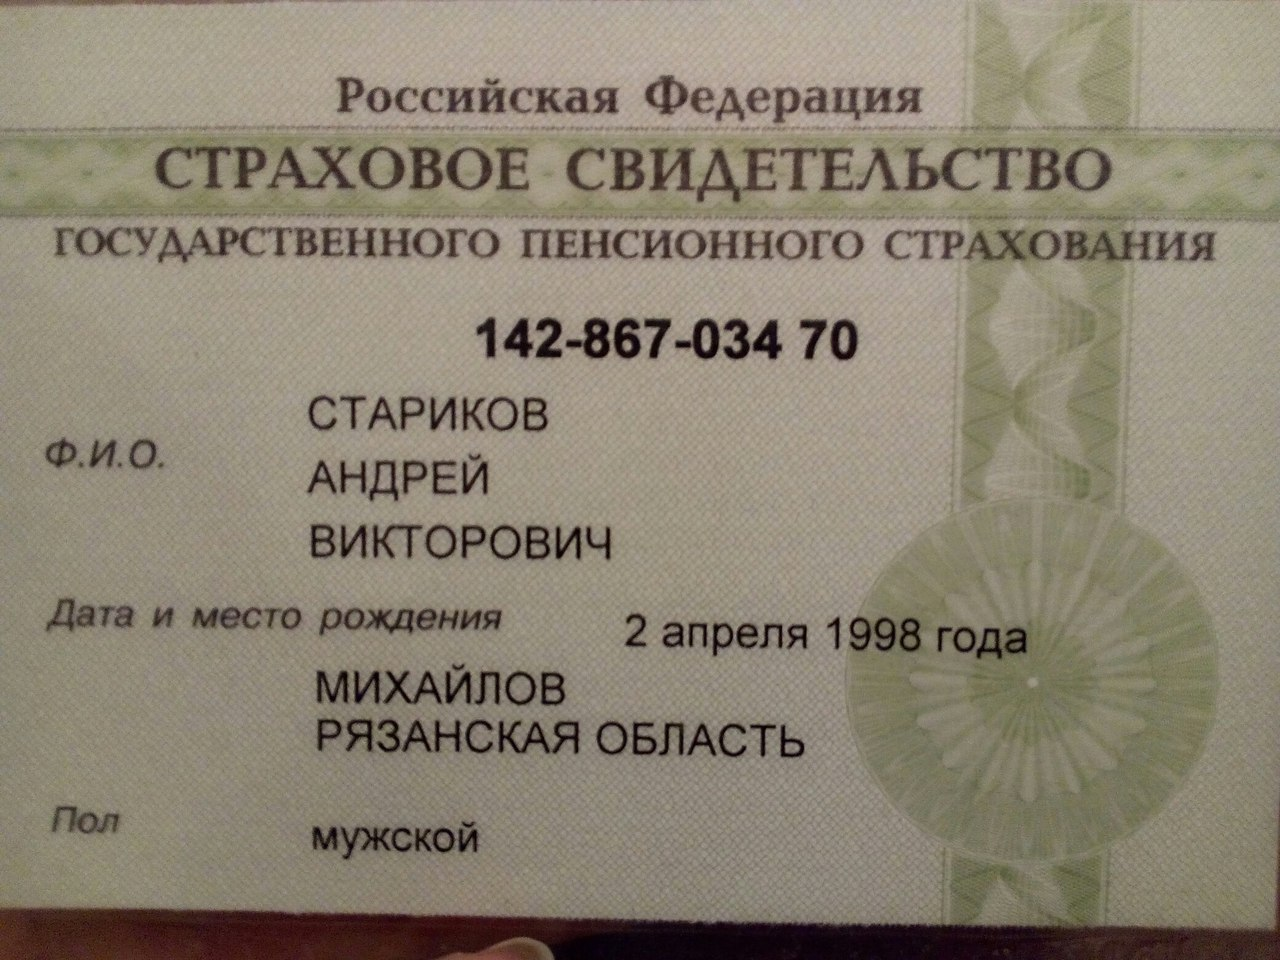text: (285, 712, 817, 773), (467, 305, 868, 365), (615, 609, 1036, 659), (272, 514, 634, 571), (292, 656, 568, 713), (289, 381, 564, 436), (295, 447, 510, 503), (286, 815, 495, 864)
